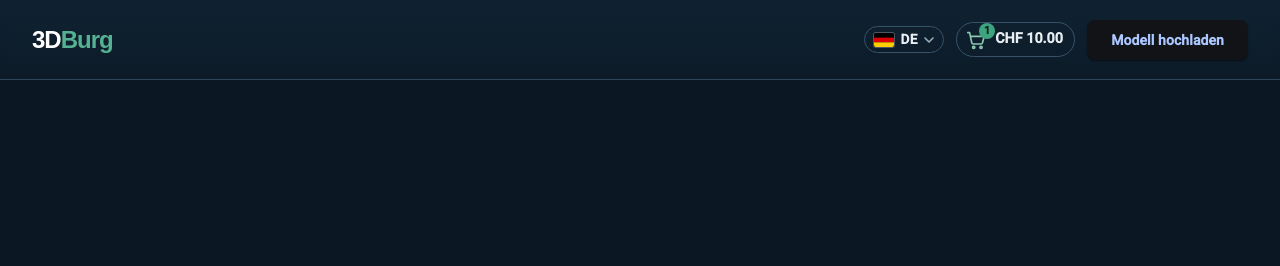
it: HeaderComponent › cart preview › opens when the indicator receives keyboard focus
Focus the link with class "cart-link" at coordinates (1016, 40), box x1=956 y1=22 x2=1075 y2=57
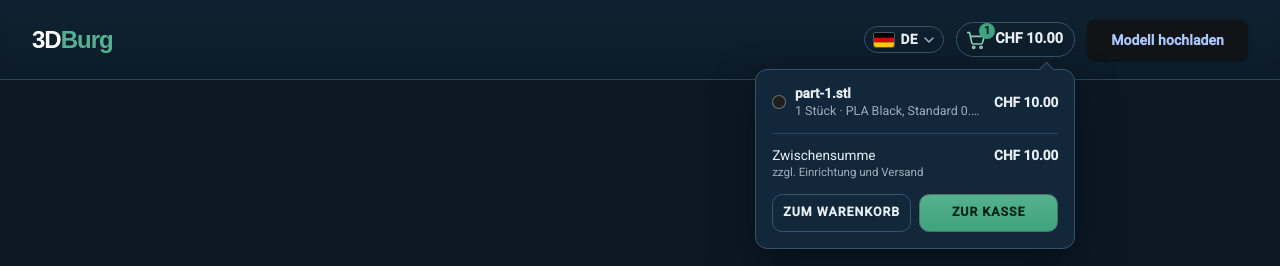
Check: the element with class "cart-preview" is shown, box x1=755 y1=69 x2=1075 y2=249
